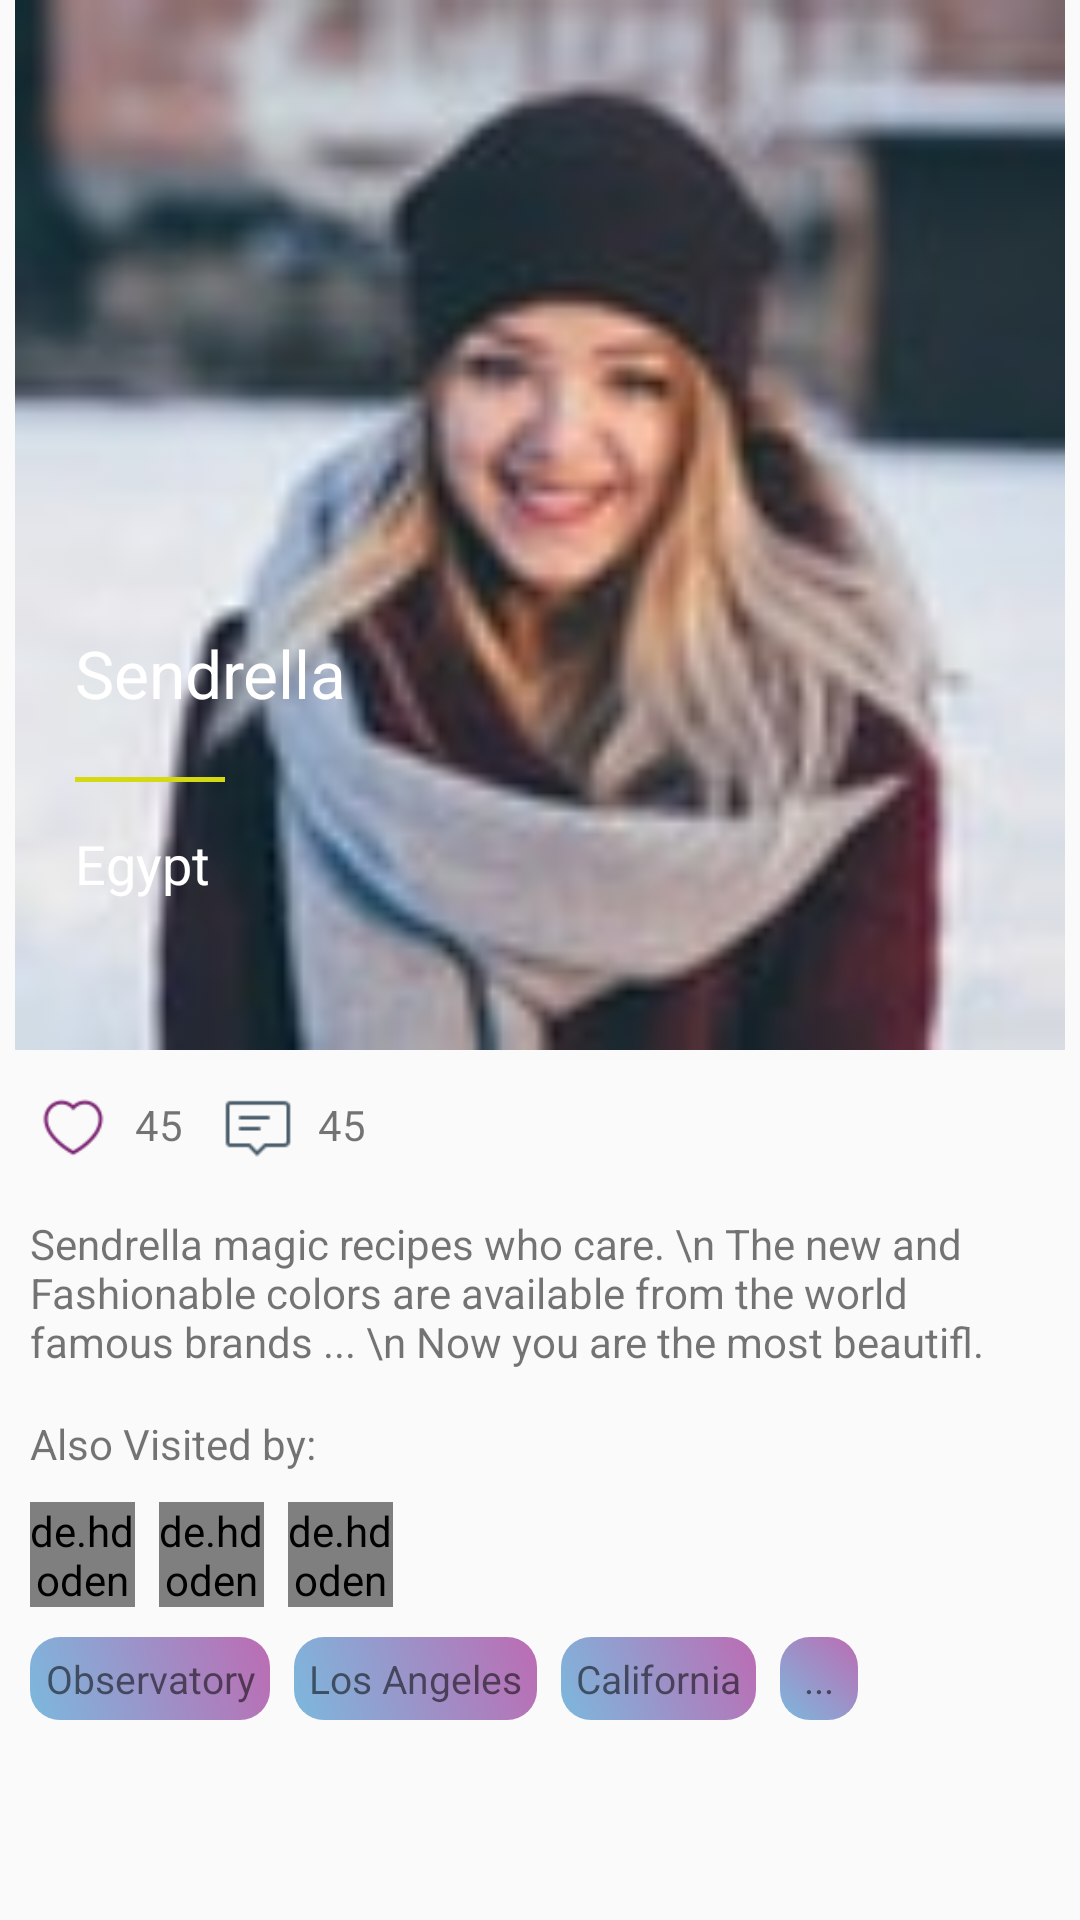

Icons on this 1080px×1920px Android screen, each with its box as box(x1, y1, x2, y2):
comments: box(225, 1100, 291, 1157)
like: box(43, 1099, 104, 1155)
